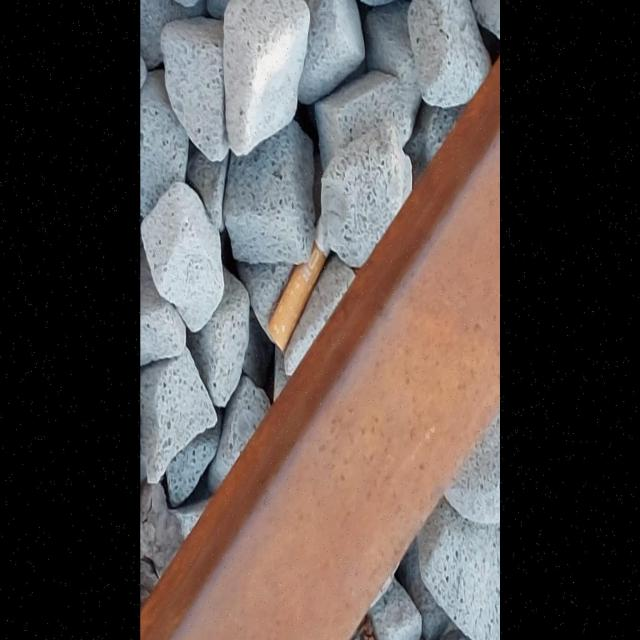other waste: (265, 232, 333, 356)
